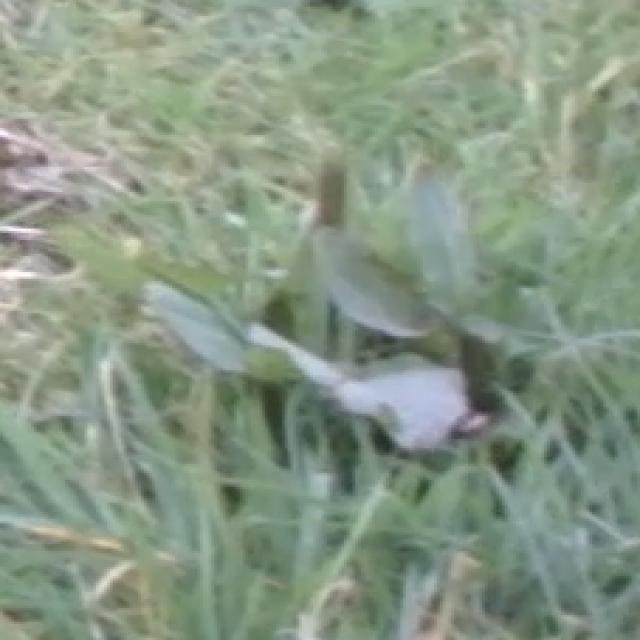organic waste: (120, 178, 579, 452)
